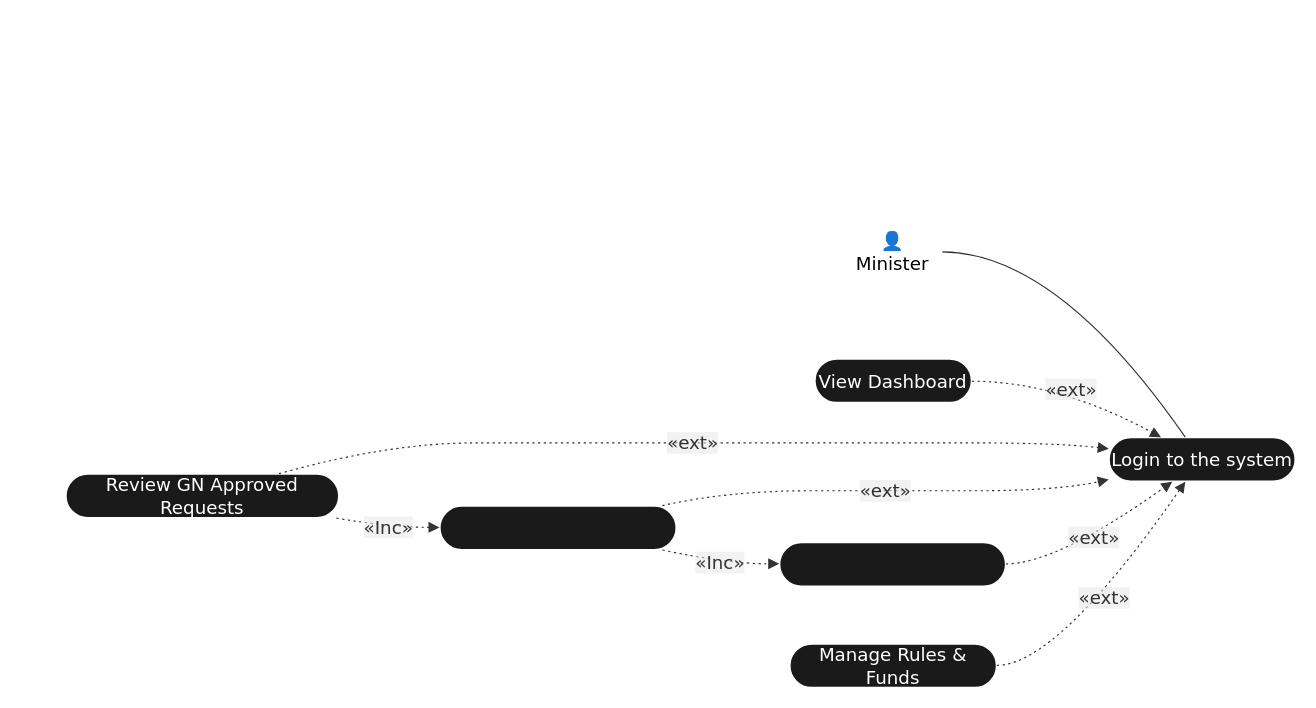
This 1316x708 diagram has some shape labels left out. The box of each missing label's shape, as (x1, y1, x2, y2) in pixels:
Approve & Pass Payment: (777, 540, 1007, 587)
Verify Details & Eligibility: (438, 504, 677, 551)
